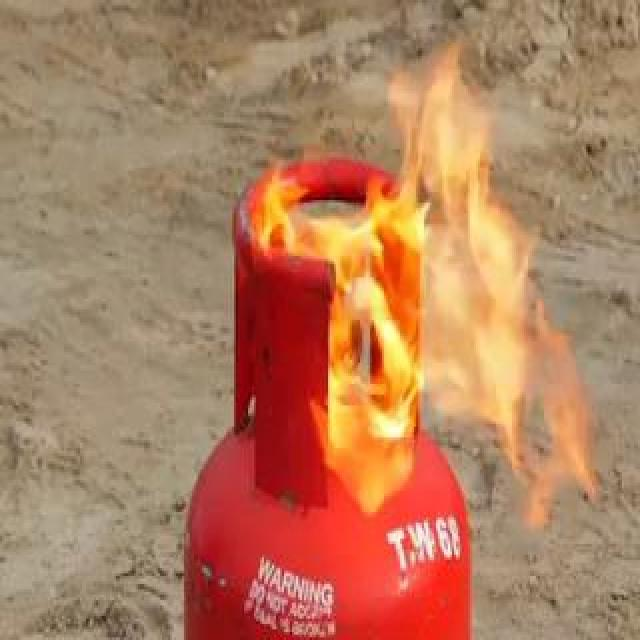Smoke: (252, 22, 602, 541)
